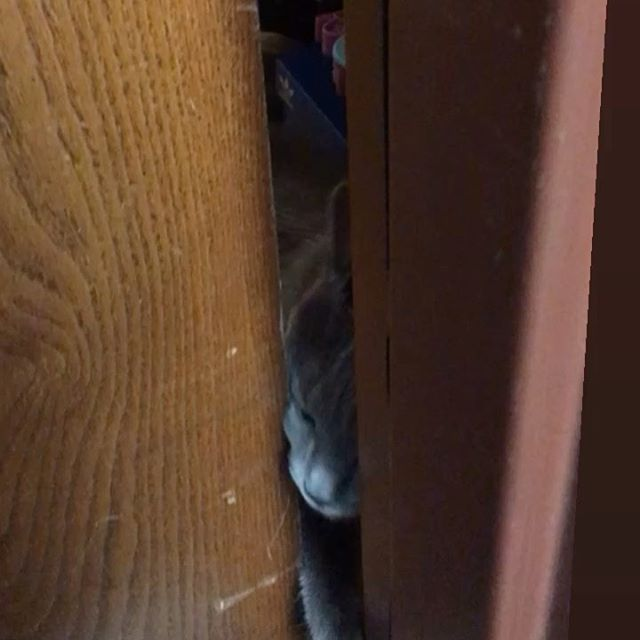cat: (197, 167, 559, 529)
